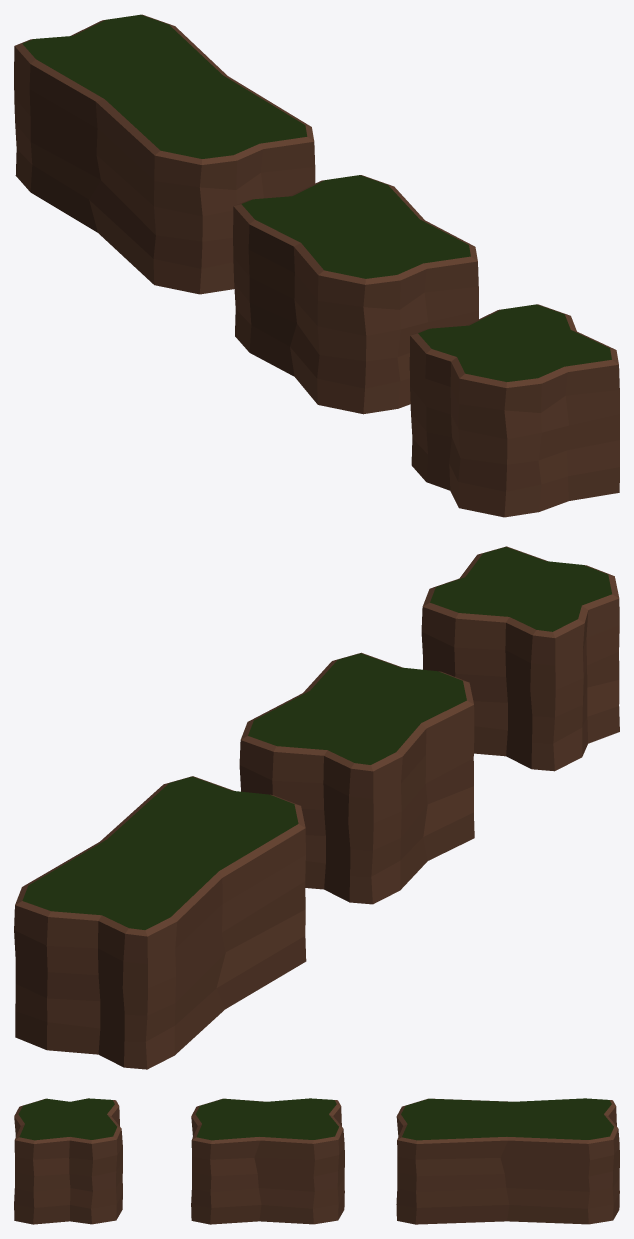
Rendered from cliffs-Pretty1.glb.
The picture shows the model from 3 angles, top to bottom: view 1: azimuth 30°, elevation 25°; view 2: azimuth 150°, elevation 25°; view 3: azimuth 270°, elevation 25°; orthographic projection. The views are drawn at different scales.
Parts seen in each view (by area): view 1: Cube.002, Cube, Cube.001; view 2: Cube.002, Cube, Cube.001; view 3: Cube.002, Cube, Cube.001.
Boxes of the visible parts, x1,y1,x2,y2 form: Cube.002: (14, 14, 315, 294); Cube: (233, 175, 478, 414); Cube.001: (409, 304, 619, 517); Cube.002: (14, 776, 306, 1069); Cube: (239, 652, 474, 904); Cube.001: (421, 546, 619, 771); Cube.002: (396, 1098, 619, 1224); Cube: (191, 1098, 344, 1224); Cube.001: (14, 1098, 122, 1224).
Bounding box in the file's own units: 3.06 × 2.6 × 17.11.
Materials: 1 (1 with a texture image).
